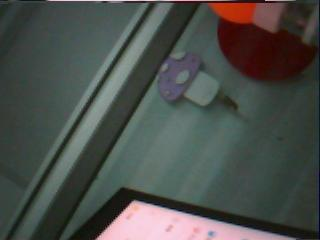oball: (210, 3, 257, 25)
